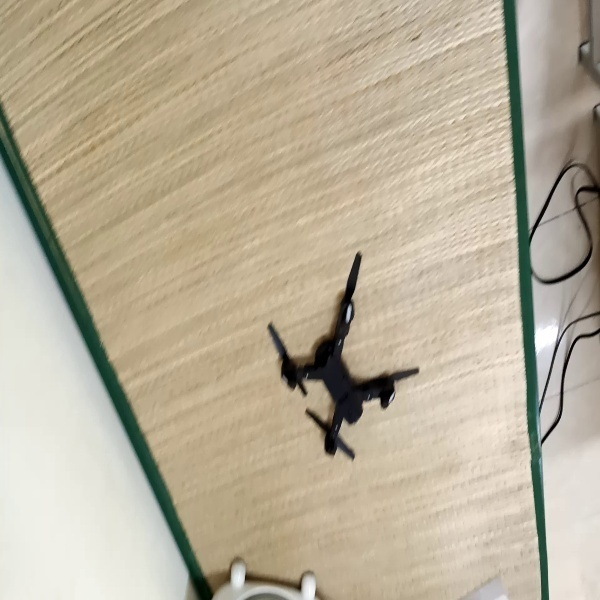drone: (263, 246, 423, 460)
